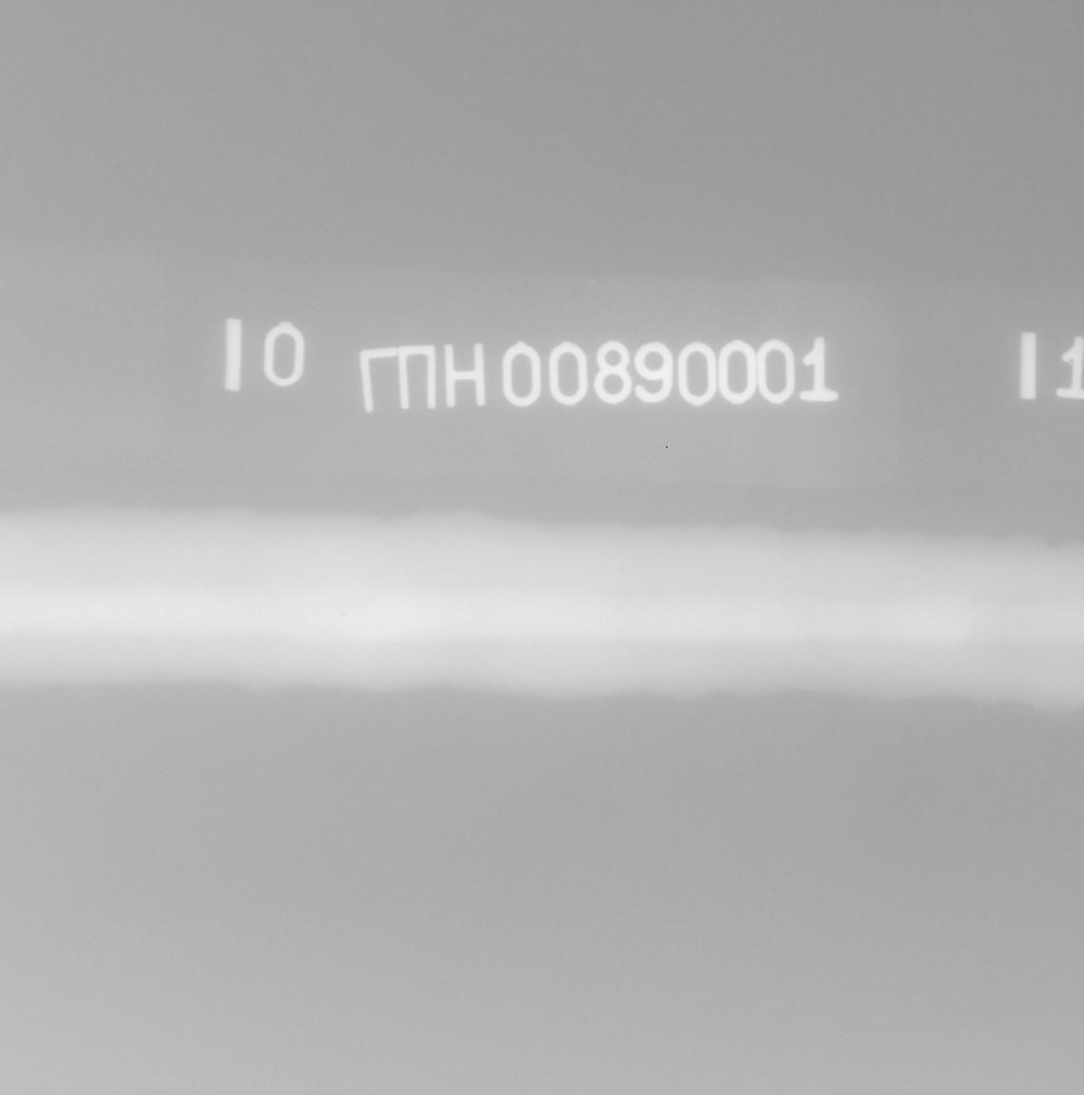Pore/Porosity: (337, 612, 345, 618)
